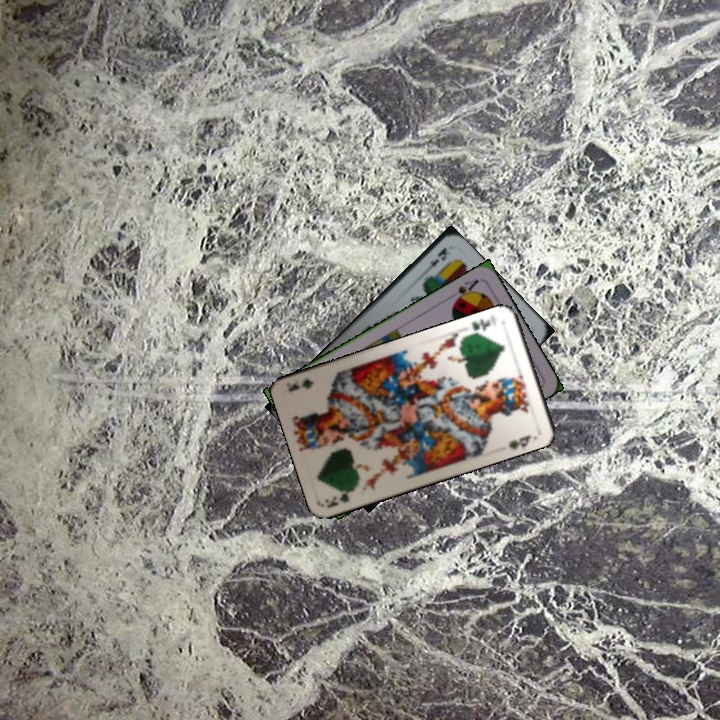EK: (420, 243, 453, 277)
GK: (323, 484, 358, 510), (466, 311, 499, 338)
SA: (449, 275, 481, 307)
